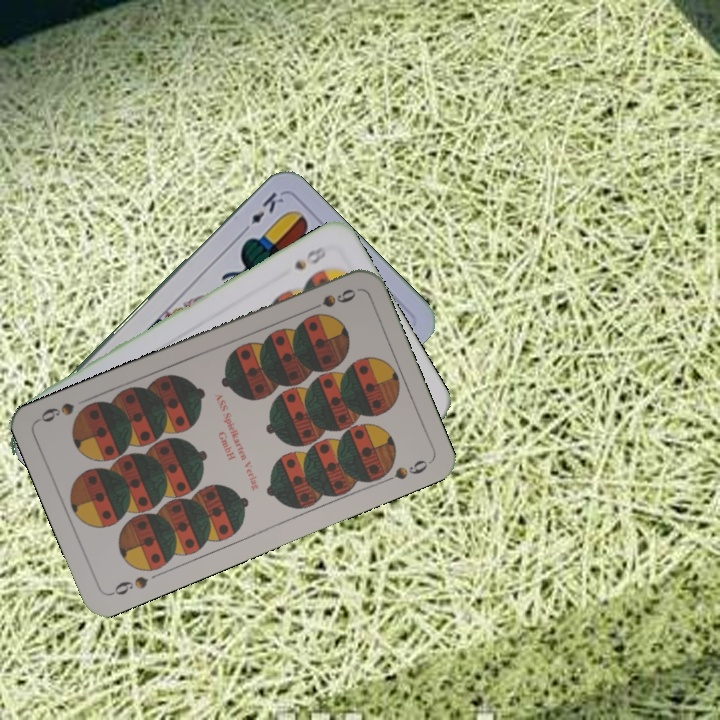EK: (237, 187, 287, 237)
S8: (290, 242, 329, 273)
S9: (303, 284, 359, 315), (106, 572, 151, 598)
